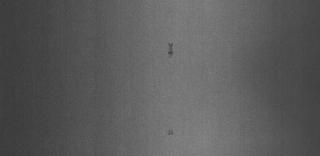oil spot: (166, 41, 178, 63), (163, 125, 175, 137)
